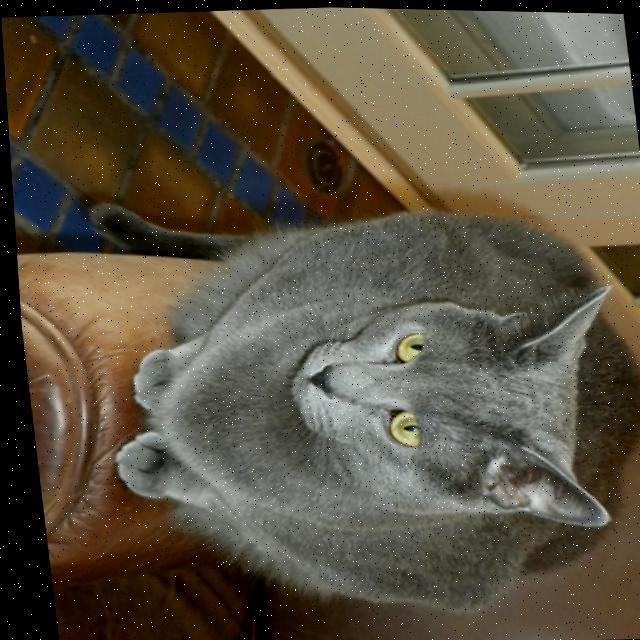Russian Blue: (71, 171, 640, 634)
